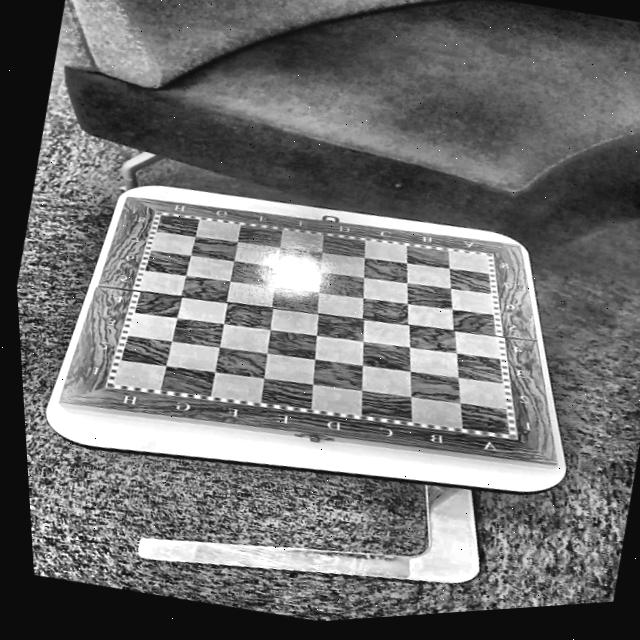chessboard: (113, 214, 508, 433)
